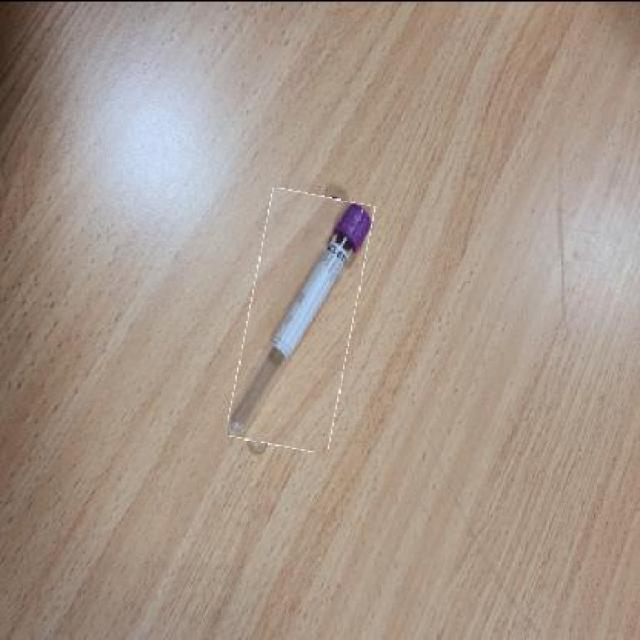Experimental-tube: (238, 190, 364, 450)
